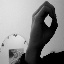o: (28, 1, 60, 45)
